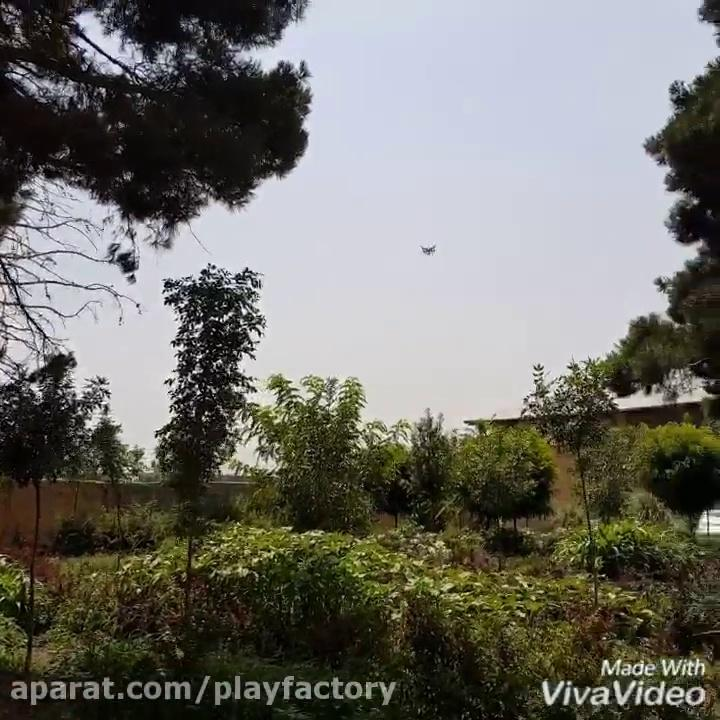drone: (412, 236, 445, 259)
